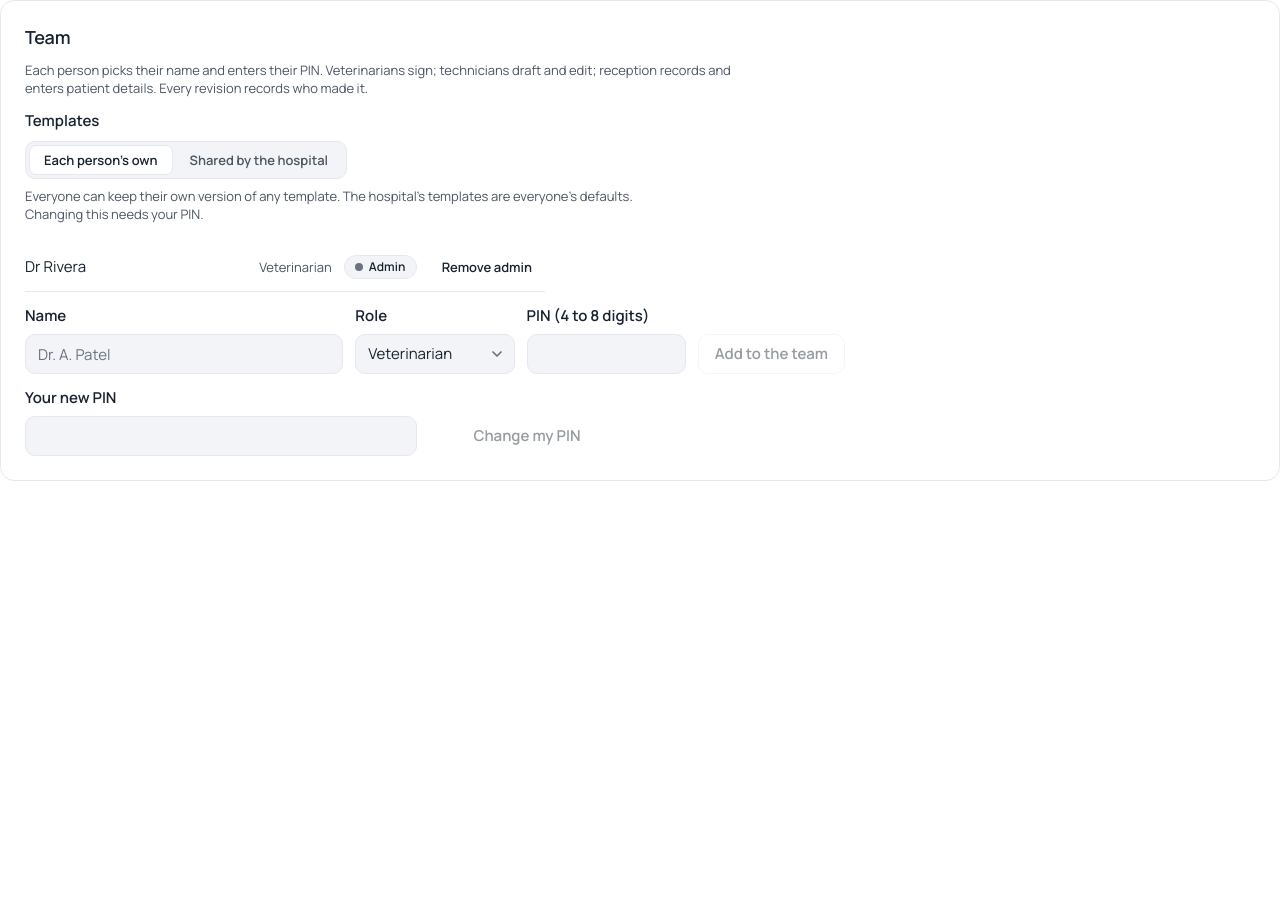
Test case: TeamSettings › asks for an admin's PIN to switch to the hospital's templates
Click the radio button labelled "Shared by the hospital": coordinates (259, 160) [175,145,343,175]
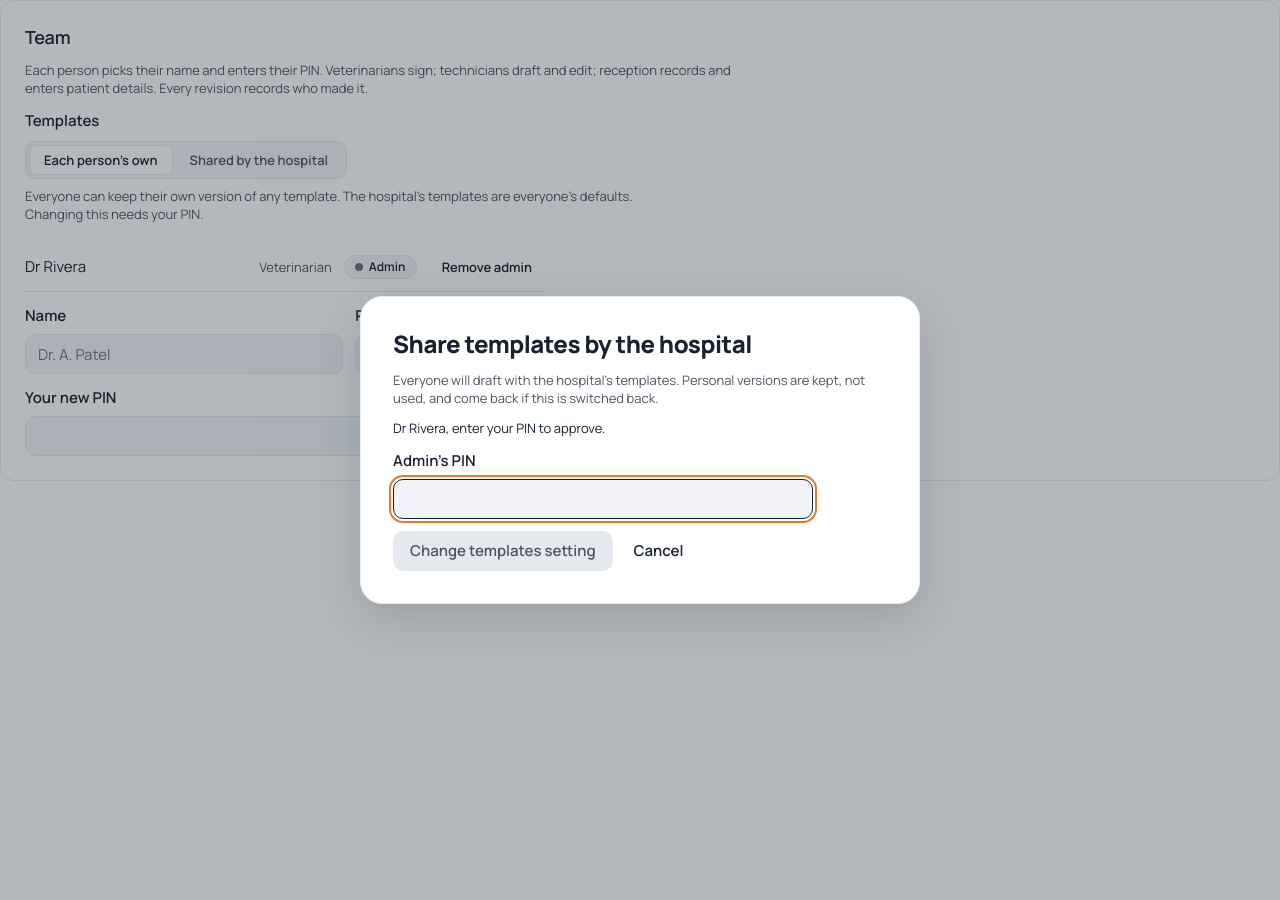
Expected: the text "Dr Rivera, enter your PIN to approve." is shown, [393,419,605,437]
Expected: the password field labelled "Admin's PIN" is shown, [393,479,813,519]
